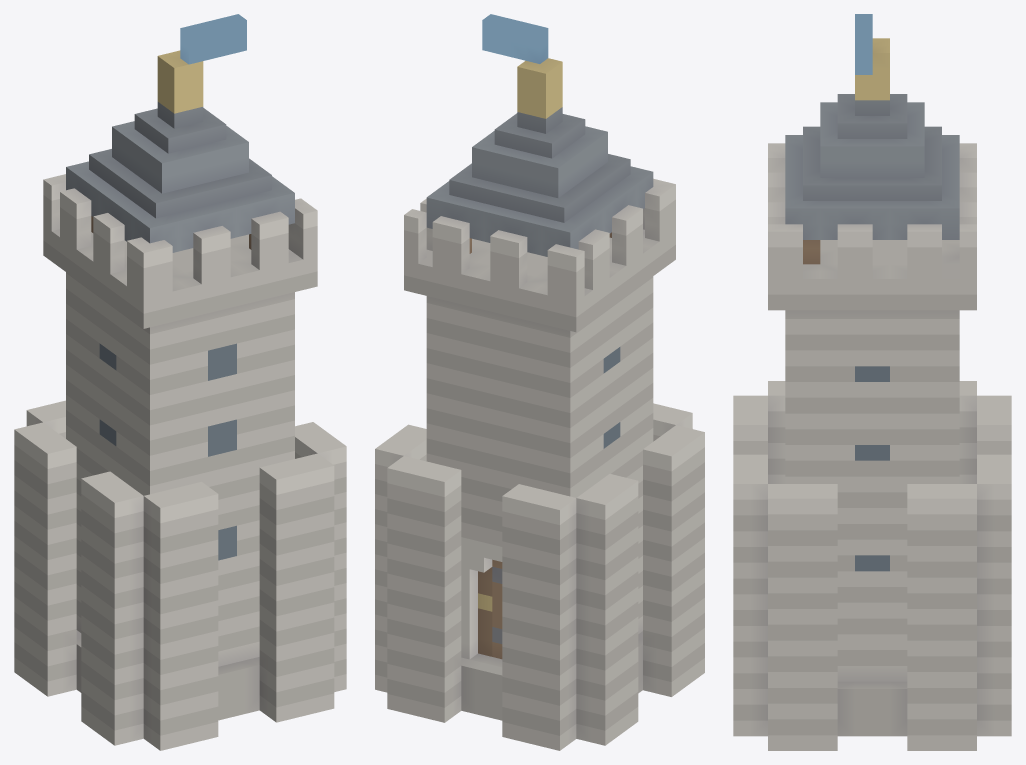
The model's file is tower.glb.
The picture shows the model from 3 angles, left to right: view 1: azimuth 30°, elevation 25°; view 2: azimuth 150°, elevation 25°; view 3: azimuth 270°, elevation 25°; orthographic projection. The views are drawn at different scales.
Visible parts, largest first — view 1: tower; view 2: tower; view 3: tower.
Part boxes in pixels (x1,y1,x2,y2): tower: (14,14,346,750); tower: (375,14,704,750); tower: (733,14,1011,750).
Bounding box in the file's own units: 2 × 5.38 × 2.
